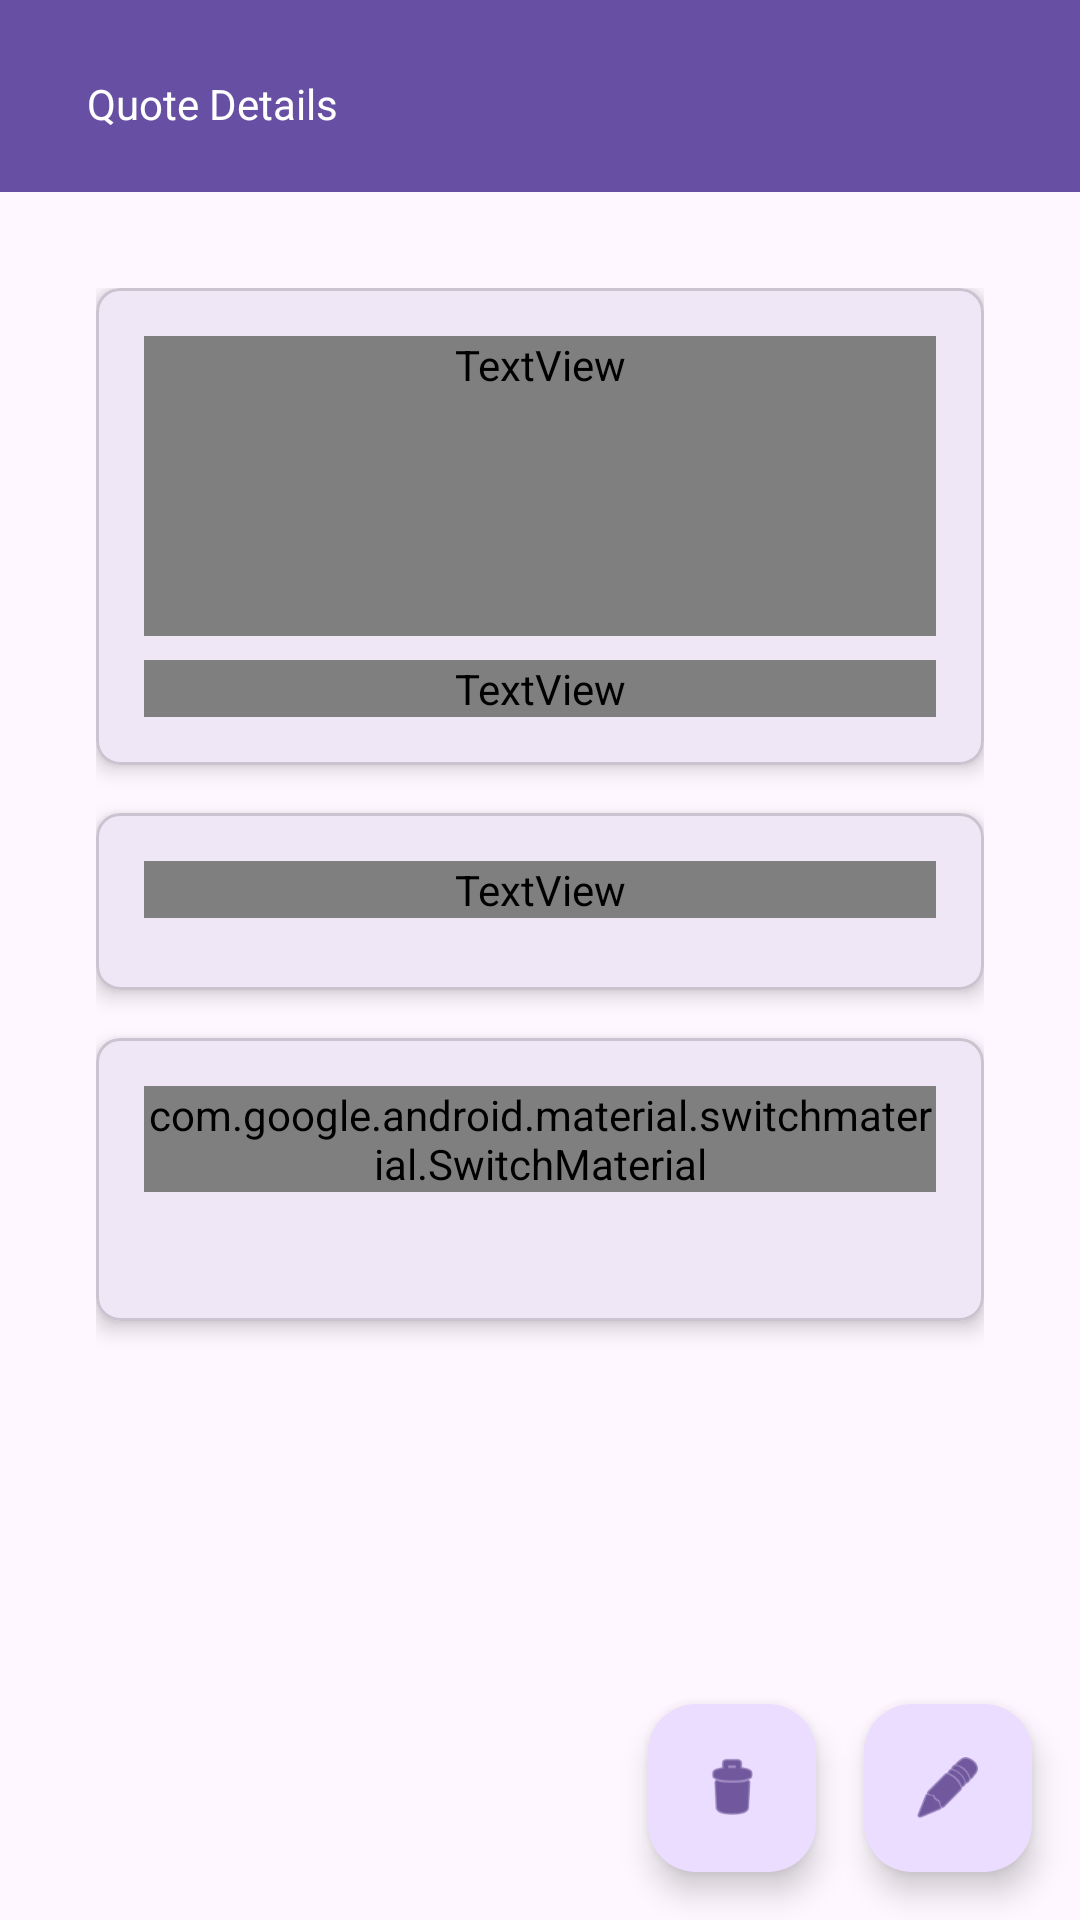

Named icons in this screenshot (1080 × 1920) and their bounding boxes, (x1, y1, x2, y2):
Delete quote: (648, 1704, 816, 1872)
Edit quote: (864, 1704, 1032, 1872)
